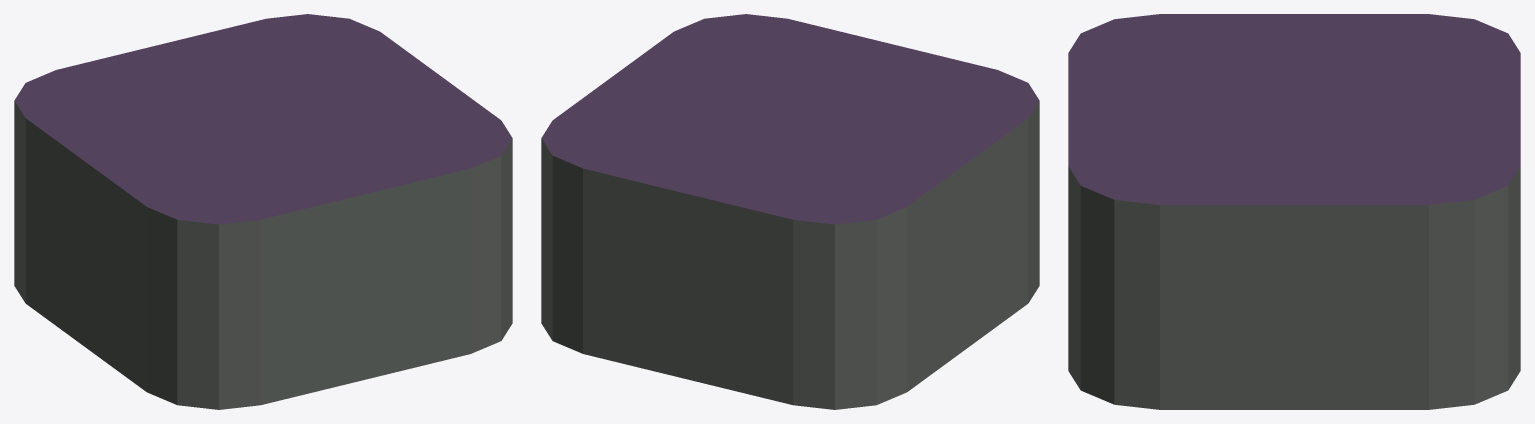
File: flat-vector-scene-outlines.glb
3 views of the same model, side by side, from view 1: azimuth 30°, elevation 25°; view 2: azimuth 150°, elevation 25°; view 3: azimuth 270°, elevation 25° (orthographic). The views are drawn at different scales.
Parts seen in each view (by area): view 1: Plane; view 2: Plane; view 3: Plane.
Part boxes in pixels (x1,y1,x2,y2): Plane: (14, 14, 512, 409); Plane: (541, 14, 1039, 409); Plane: (1068, 14, 1520, 409).
Bounding box in the file's own units: 16 × 8 × 16.
Materials: 1 (1 with a texture image).
